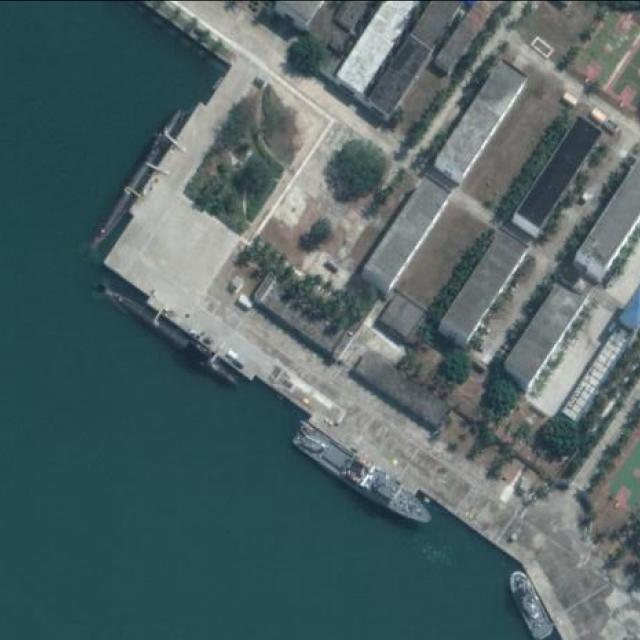Frigate: (288, 418, 439, 535)
Submarine: (92, 277, 244, 389), (82, 102, 188, 253)
